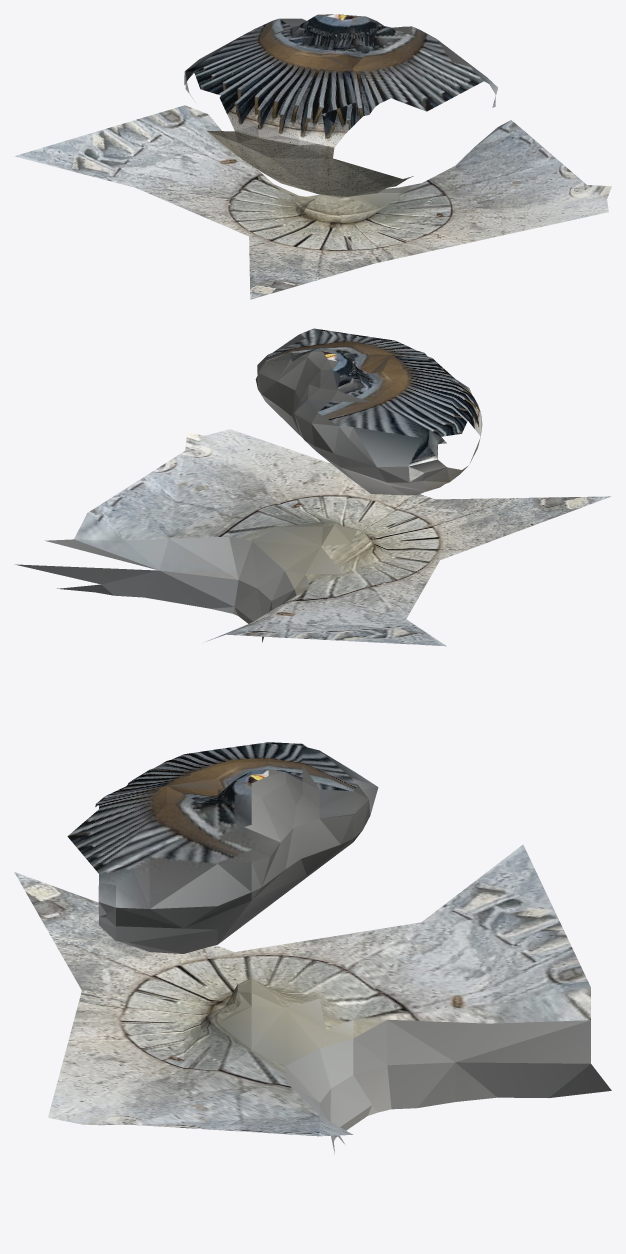
3 renders of one model, top to bottom at view 1: azimuth 30°, elevation 25°; view 2: azimuth 150°, elevation 25°; view 3: azimuth 270°, elevation 25°, orthographic. The views are drawn at different scales.
Bounding box in the file's own units: 2.69 × 1.38 × 2.31.
Materials: 1 (1 with a texture image).
